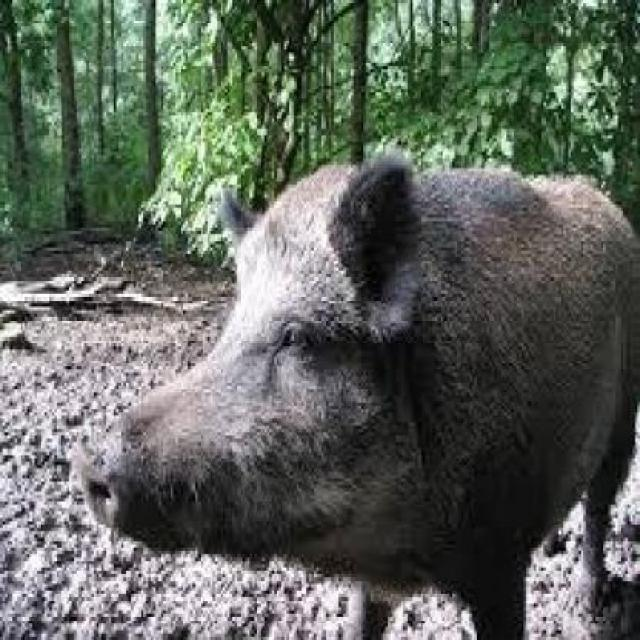Wild Boar: (74, 152, 640, 636)
